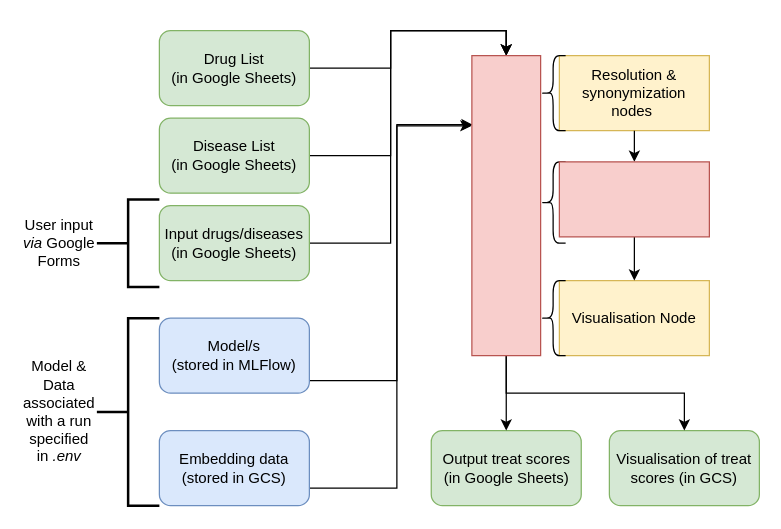
The diagram is 781 pixels wide and 529 high, and some of its shapes have lost their labels. Here are the shapes that lost their labels. From the top down, the centre of each, then its label:
At (x=506, y=205): "Inference Pipeline".
At (x=633, y=199): "Matrix Generation (modular) pipeline".
